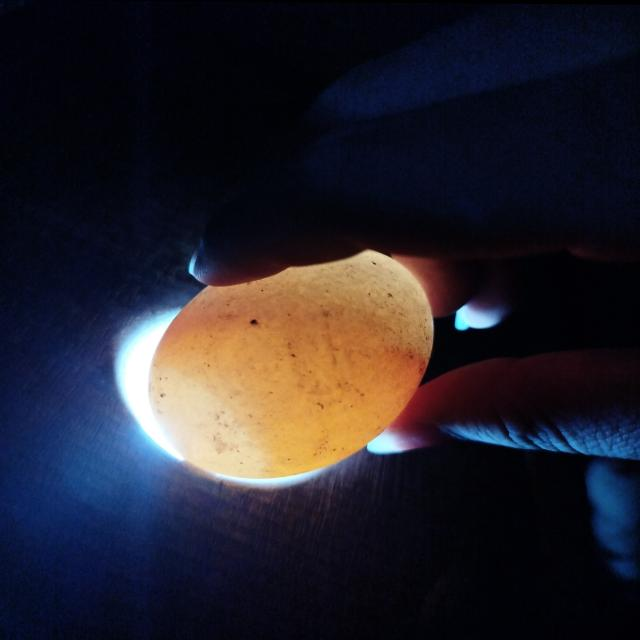Camara de Ar: (148, 368, 265, 479)
